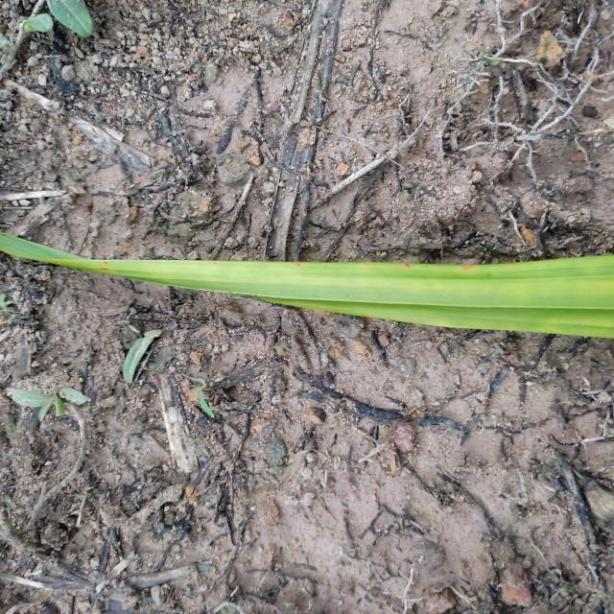nitrogen: (5, 232, 614, 337)
